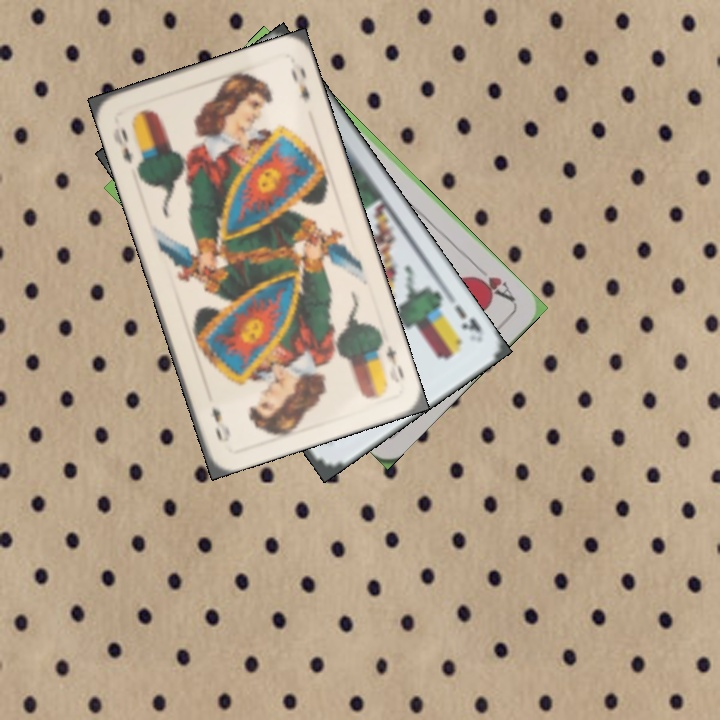EK: (450, 301, 487, 340)
EO: (373, 334, 407, 382), (117, 124, 136, 167)
HA: (468, 261, 518, 306)
